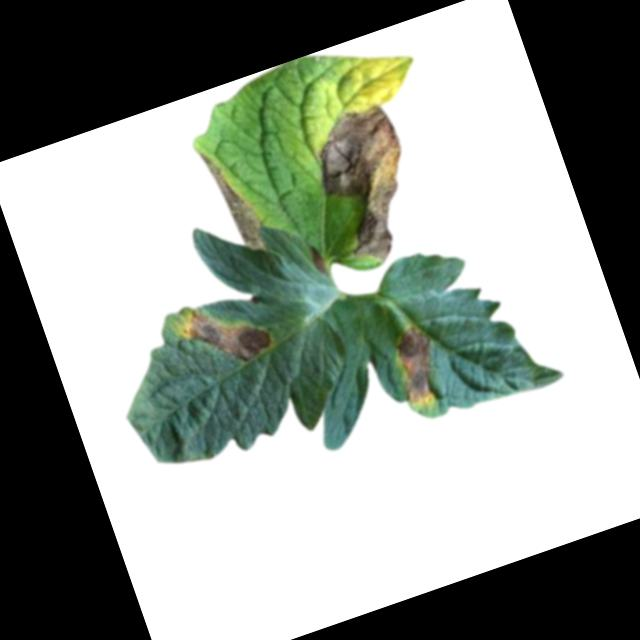Early_blight: (299, 100, 435, 272), (172, 292, 275, 382), (199, 141, 269, 260), (381, 321, 450, 411), (307, 243, 332, 279)
